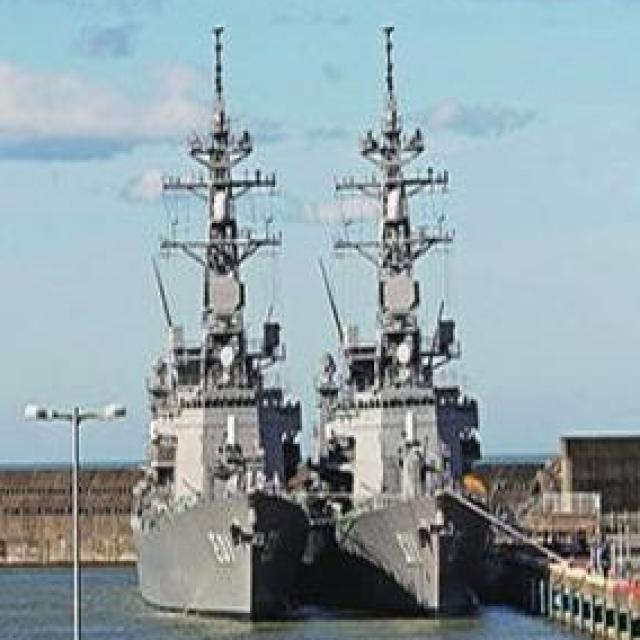navalvessels: (299, 20, 501, 608), (114, 20, 306, 618)
